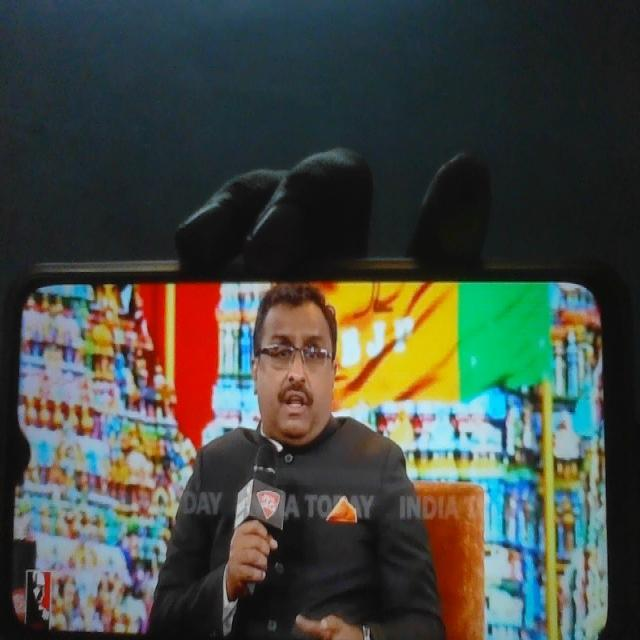fake: (247, 258, 349, 450)
